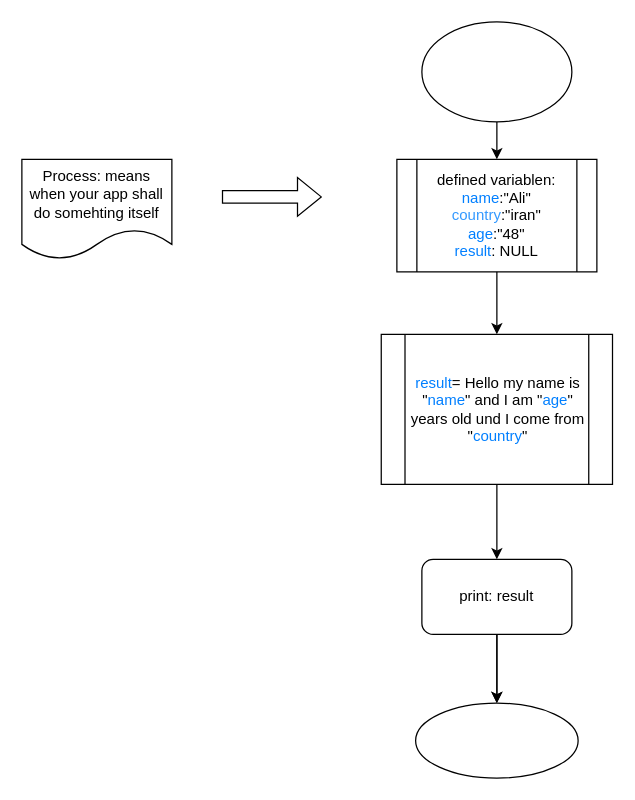
Some shapes in this 635 by 800 pixel diagram are drawn without their labels. Each missing label, with the centre of its shape:
"End" goes at [496,740].
"Start" goes at [496,71].
